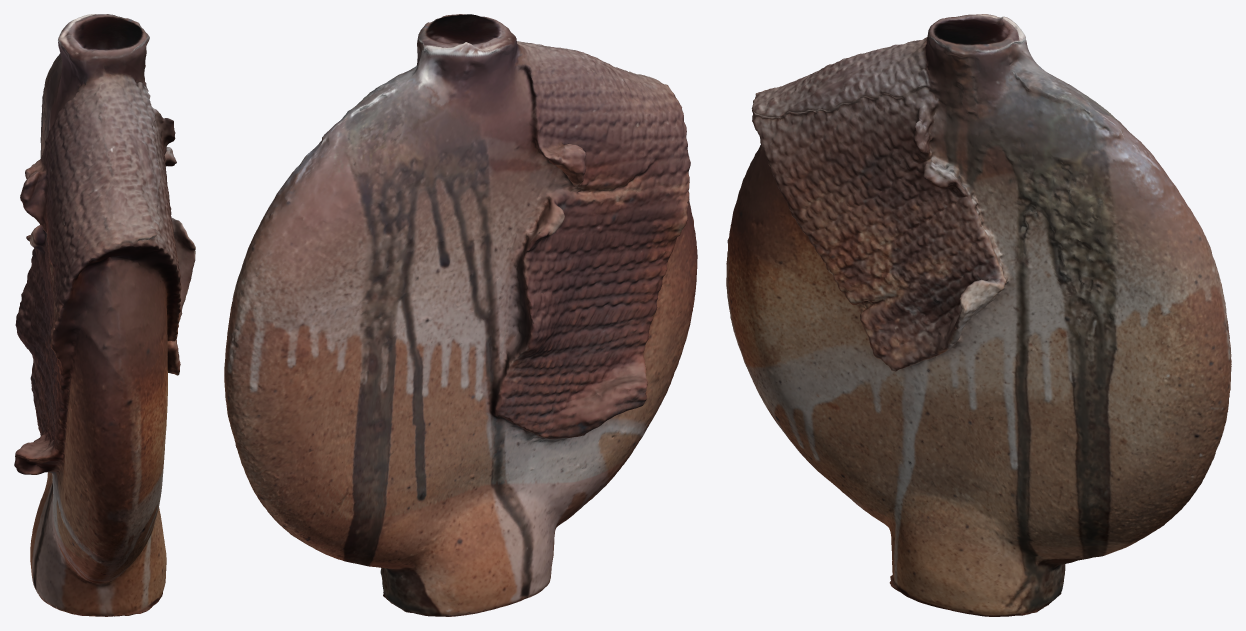
Rendered from gerra.glb.
3 renders of one model, left to right at view 1: azimuth 30°, elevation 25°; view 2: azimuth 150°, elevation 25°; view 3: azimuth 270°, elevation 25°, orthographic.
Visible parts, largest first — view 1: mainMeshNode; view 2: mainMeshNode; view 3: mainMeshNode.
Boxes of the visible parts, x1,y1,x2,y2 form: mainMeshNode: (14,14,195,616); mainMeshNode: (224,14,697,616); mainMeshNode: (726,14,1231,616).
Size of the model in its own units: 2.33 by 4.71 by 3.84.
1 material, 1 textured.
